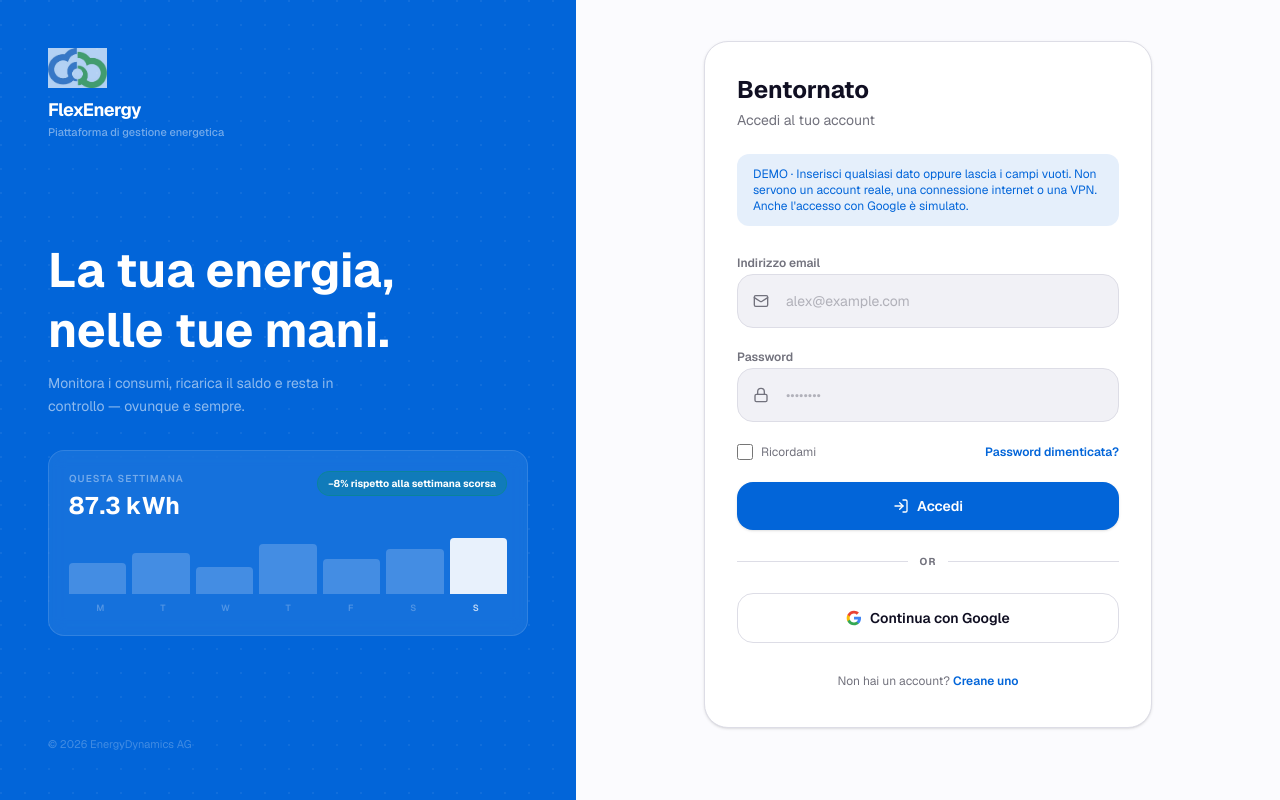
Test: demo routes without a data connection › renders /contracts/300/invoices with local data
The image size is (1280, 800).
Click the button "Accedi".
click(928, 506)  # box [737,482,1119,530]
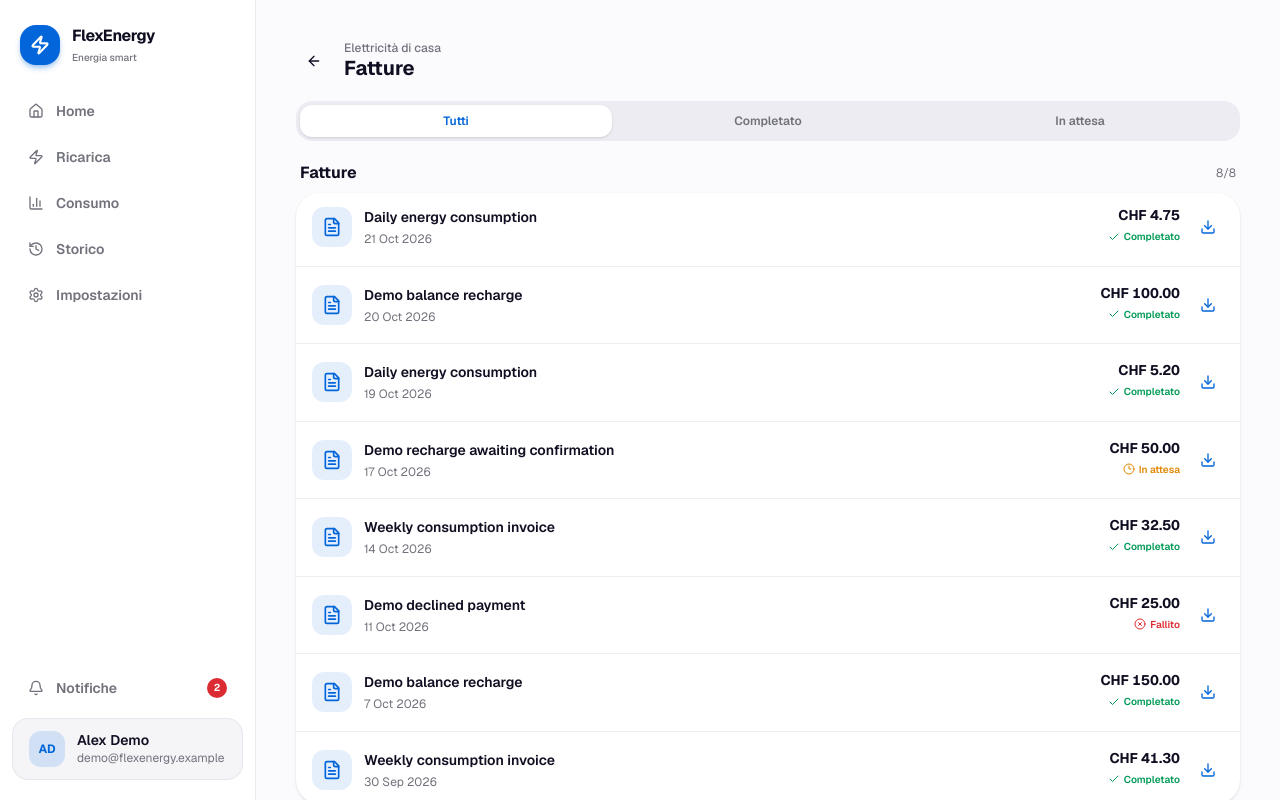
Expected: the button "Home" is shown, [12,89,243,133]
